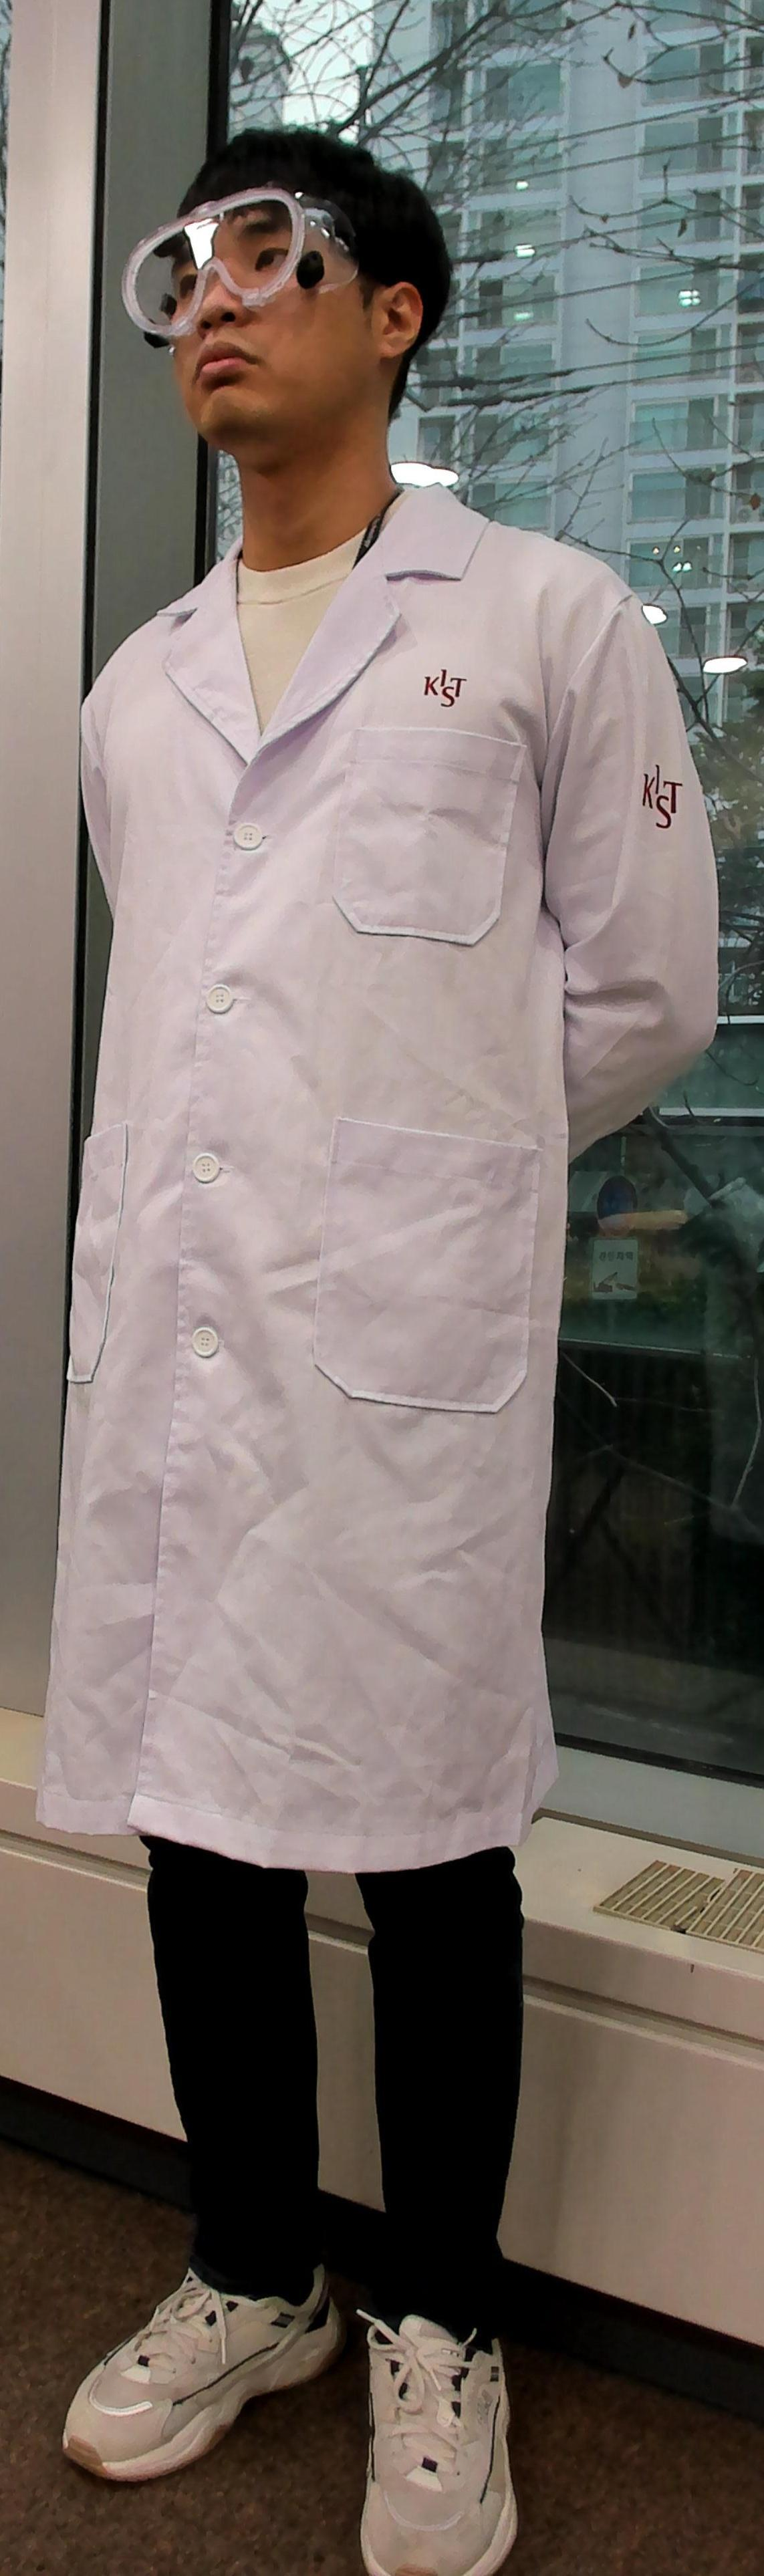lab_coat: (26, 555, 629, 1825)
